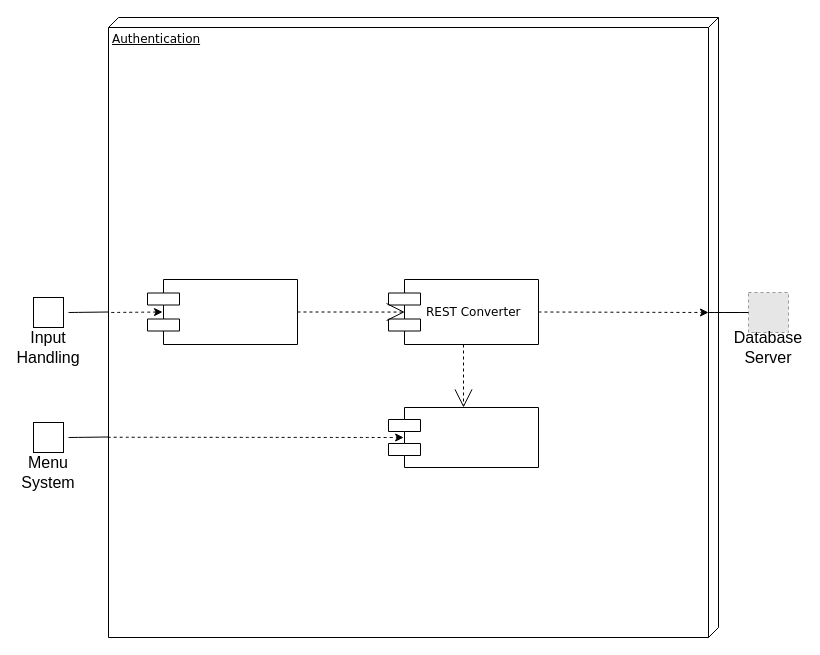
Image size: 820x655. Some labels were removed from this diagram. Grey dashed boxes stand in for pictures. The centre of each missing label's shape, as x and y in pixels:
"Request Handler" belongs at pixel 222 311.
"Session Manager" belongs at pixel 463 437.
